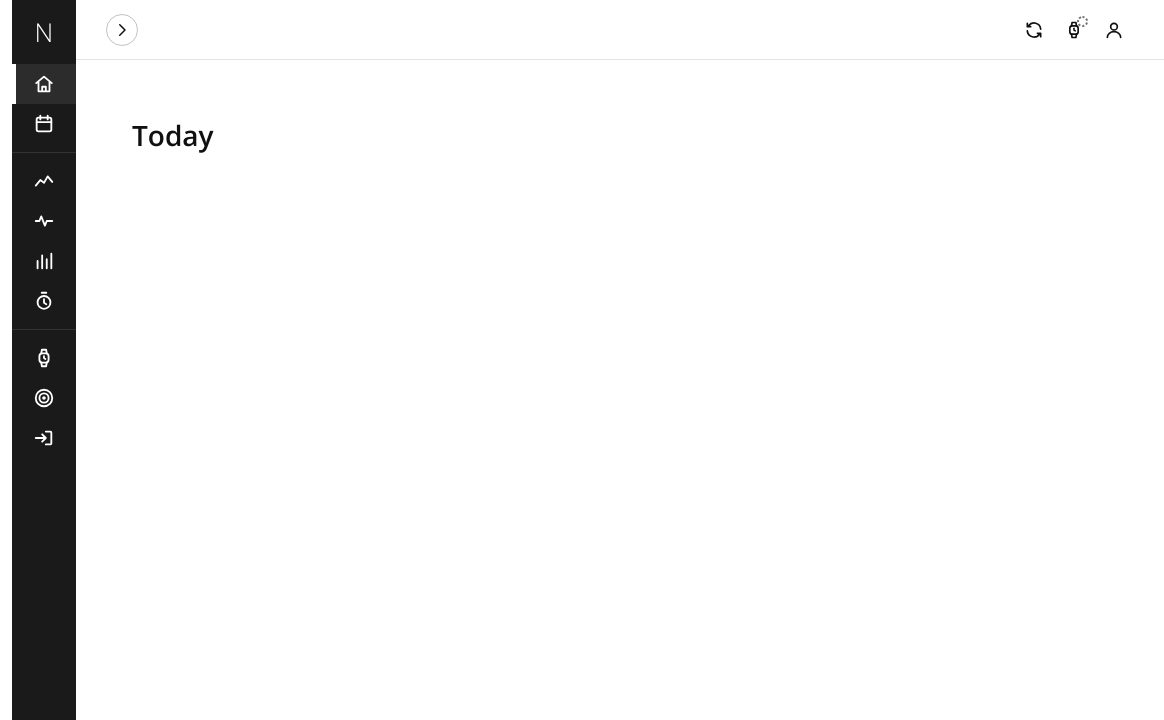
it: AppShell › a group button on the icon rail widens the sidebar and opens the group
Click the button named "Performance Stats" at x=44, y=261, box [12, 241, 76, 281]
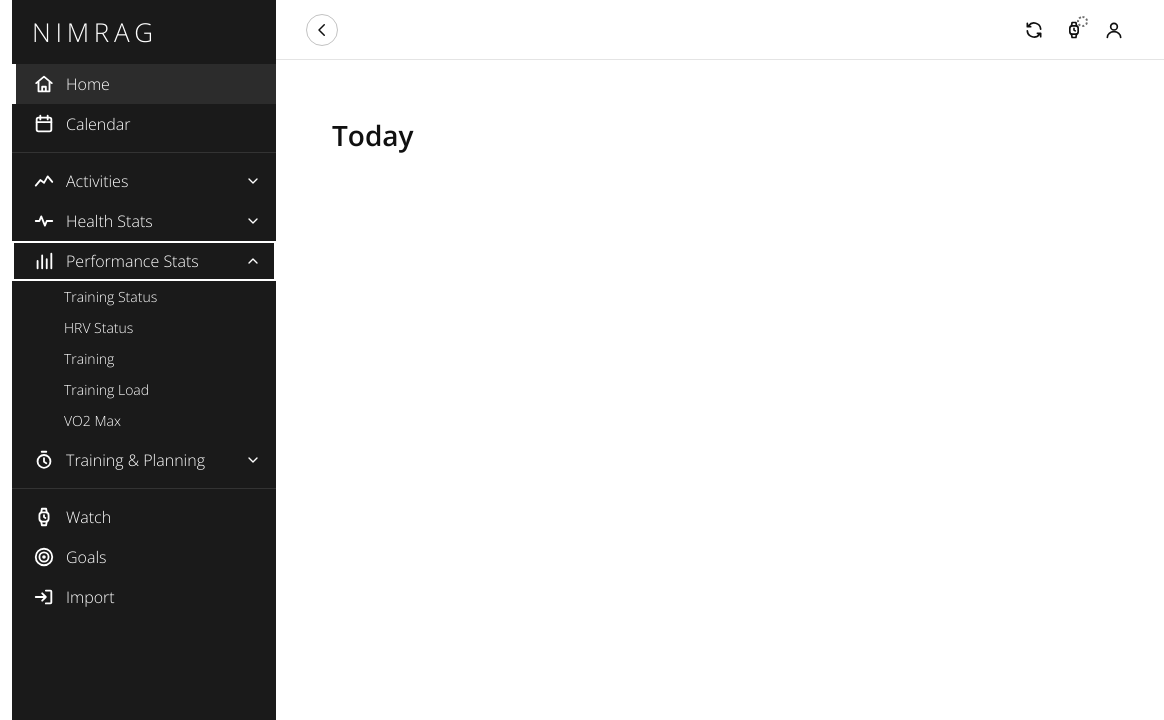
Expected: the link "HRV Status" is shown, [64, 318, 133, 337]
